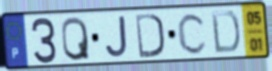3: (29, 14, 57, 65)
C: (176, 11, 209, 56)
D: (133, 12, 166, 60), (209, 9, 242, 55)
J: (104, 14, 130, 59)
Q: (60, 15, 92, 63)
